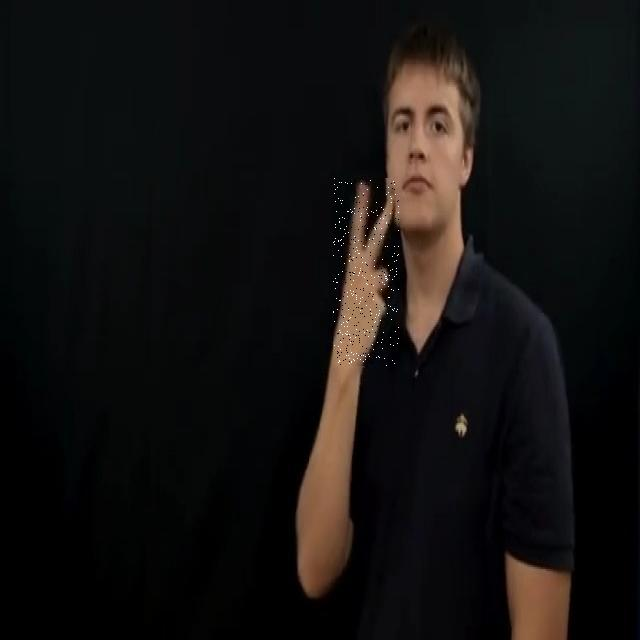vegetables: (334, 178, 399, 366)
